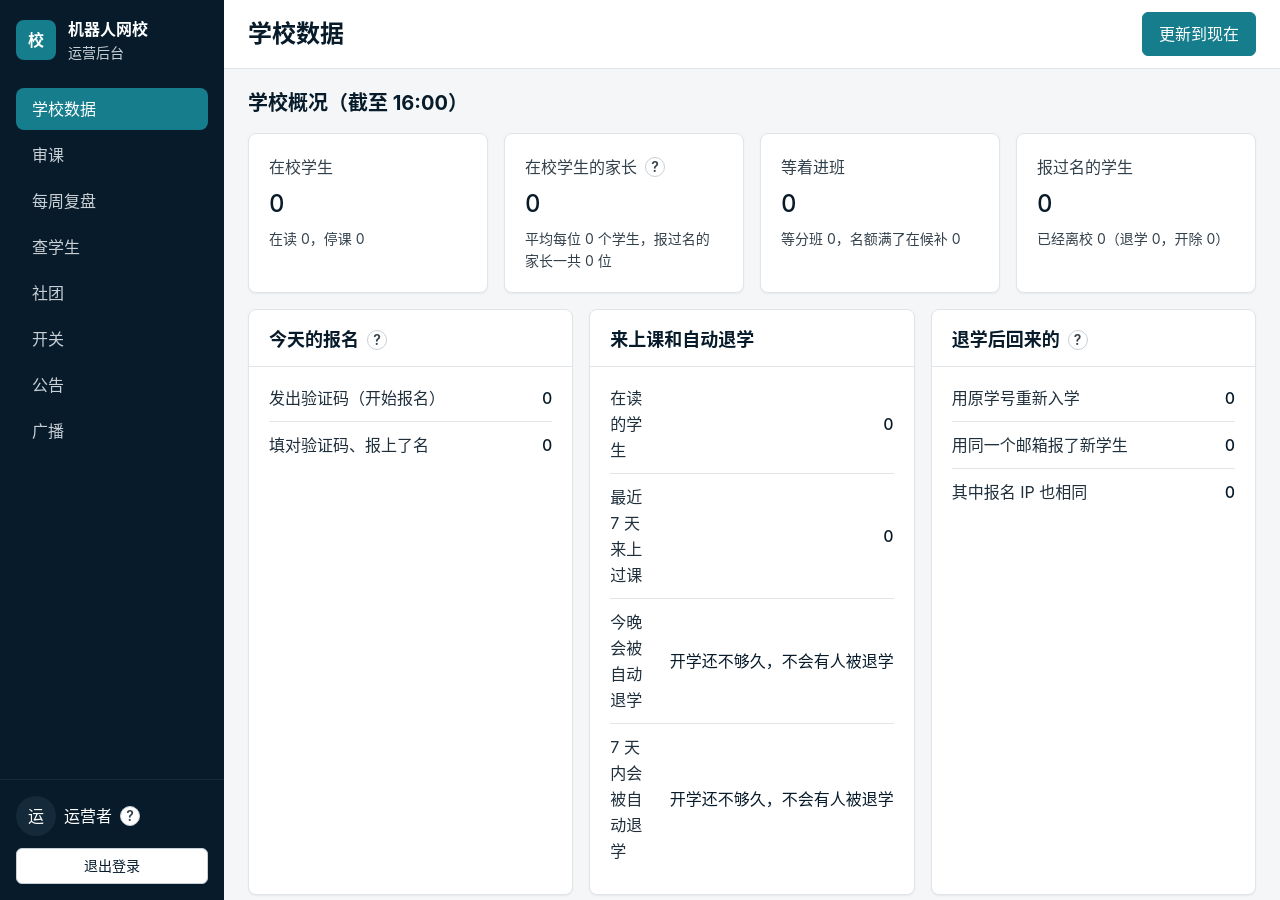
it: the layout › shows the weekly review, the student lookup, the clubs, the switches and the notices on their pages
Click the link "每周复盘": (64, 201) [32, 191, 96, 211]
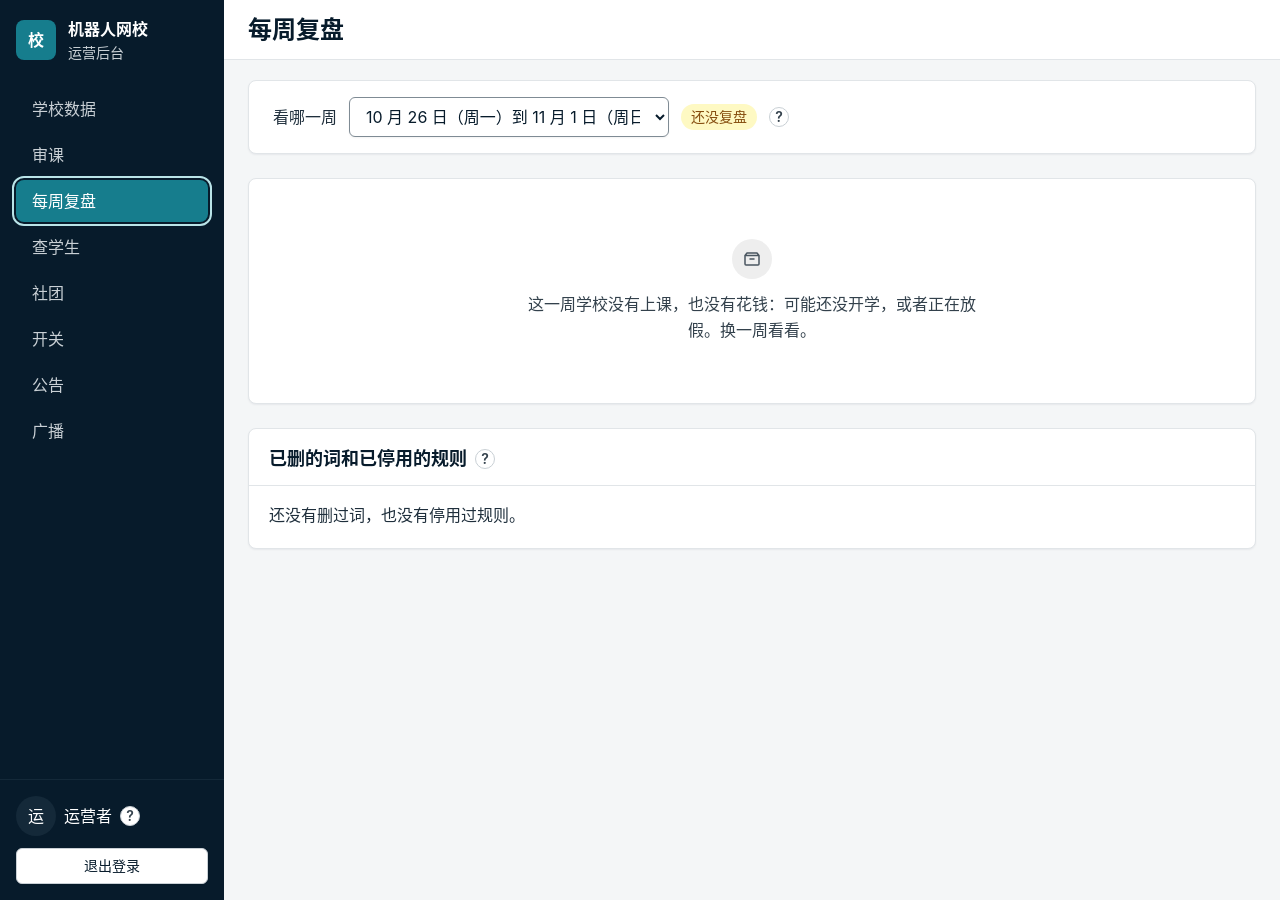
Check: the dropdown labelled "看哪一周" is shown, box [349, 97, 669, 137]
Click the link "查学生": (56, 247) [32, 237, 80, 257]
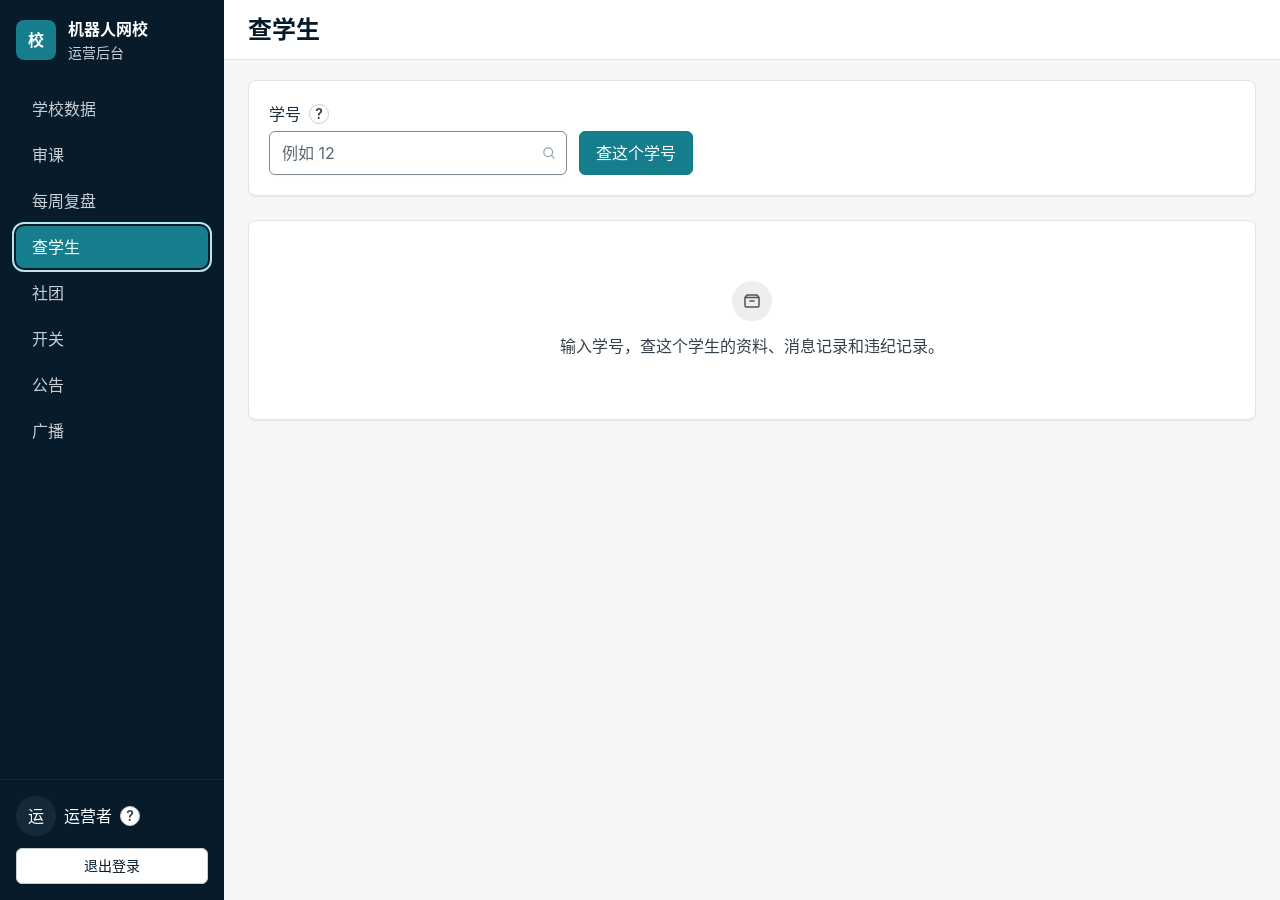
Check: the field labelled "学号" is shown, box [269, 131, 567, 175]
Click the link "社团": (48, 293) [32, 283, 64, 303]
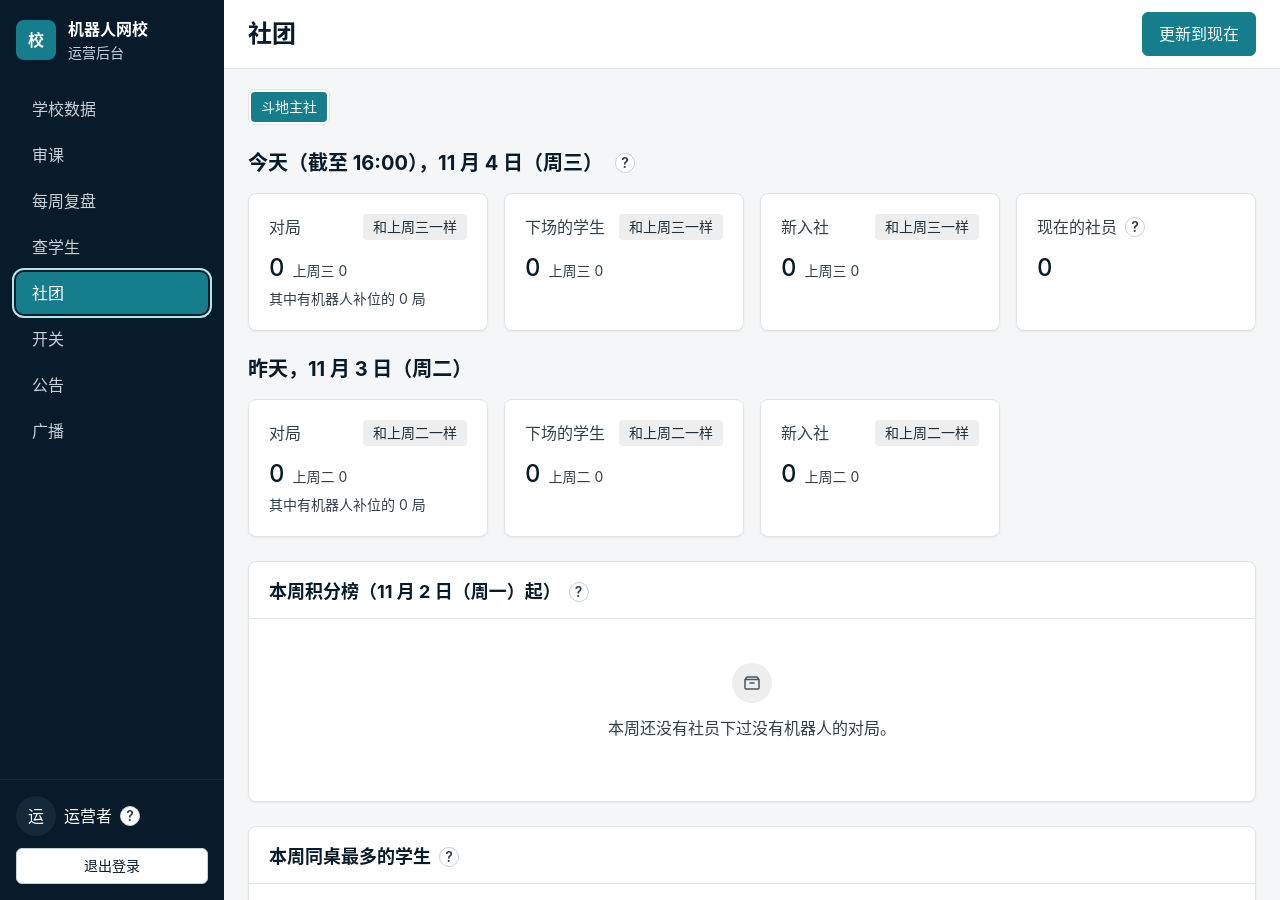
Check: the element "本周积分榜（11 月 2 日（周一）起） ? 本周还没有社员下过没有机器人的对局。" is shown, box [248, 561, 1256, 802]
Click the link "开关": (48, 339) [32, 329, 64, 349]
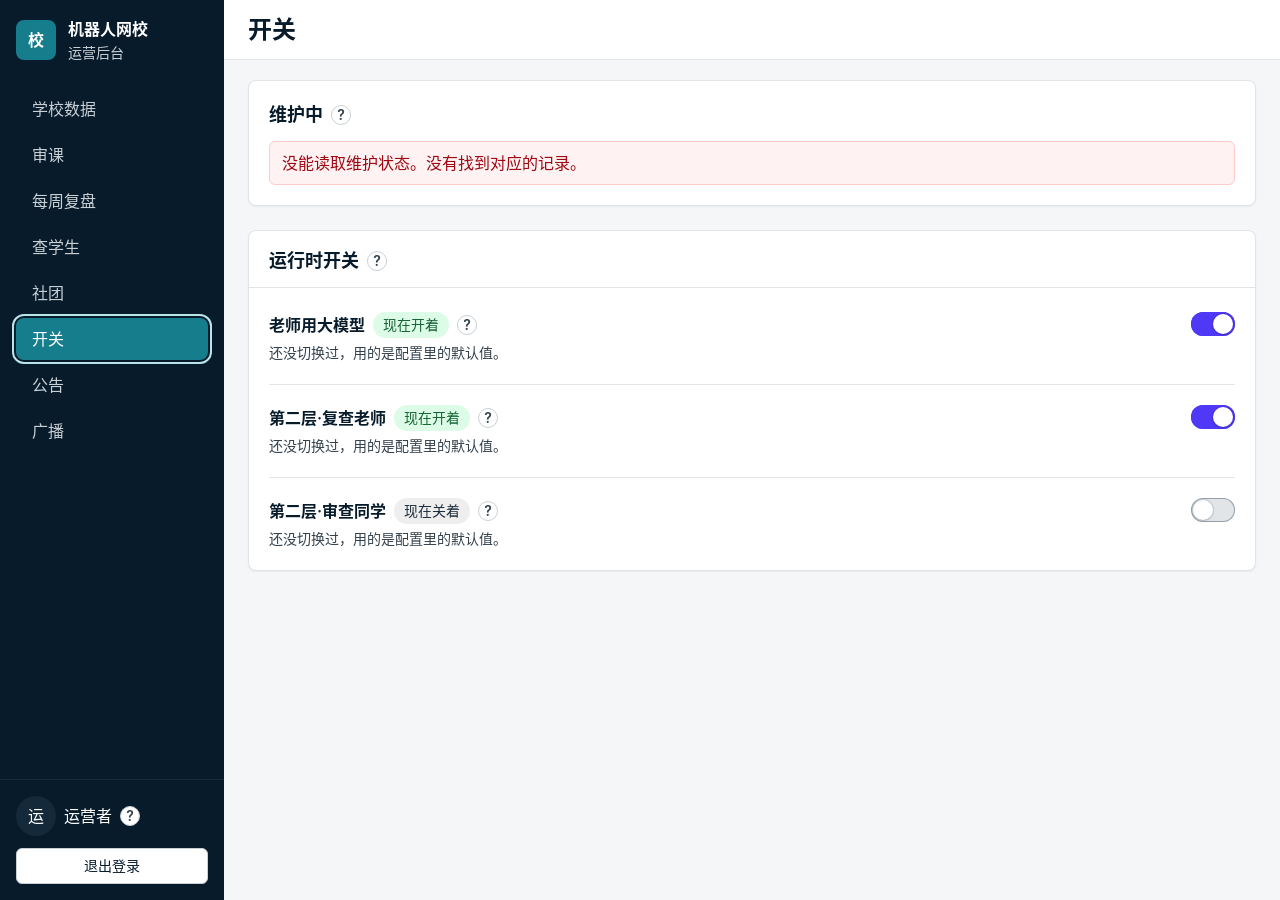
Check: the element "老师用大模型" is shown, box [269, 312, 1235, 364]
Click the link "公告": (48, 385) [32, 375, 64, 395]
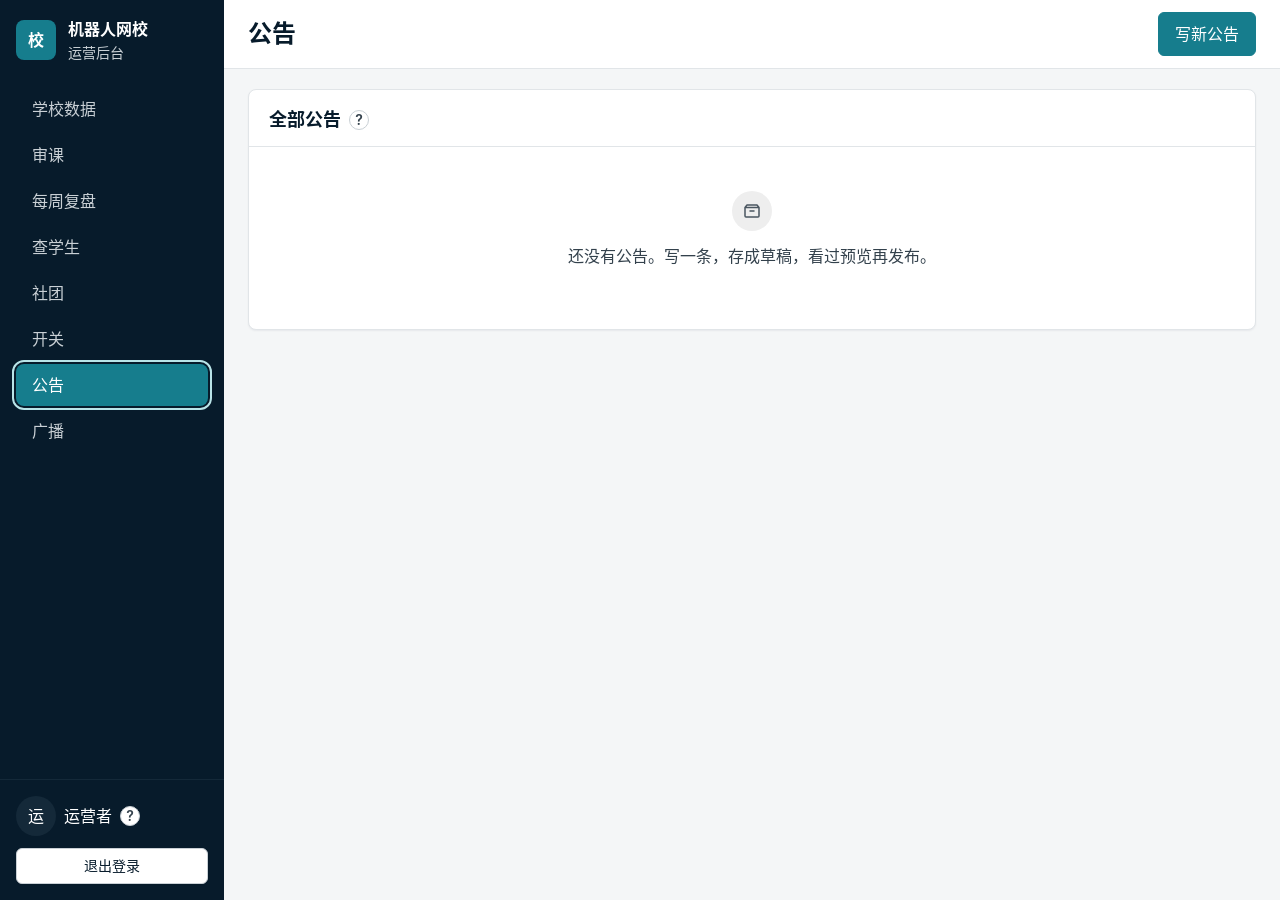
Check: the button "写新公告" is shown, box [1158, 12, 1256, 56]
